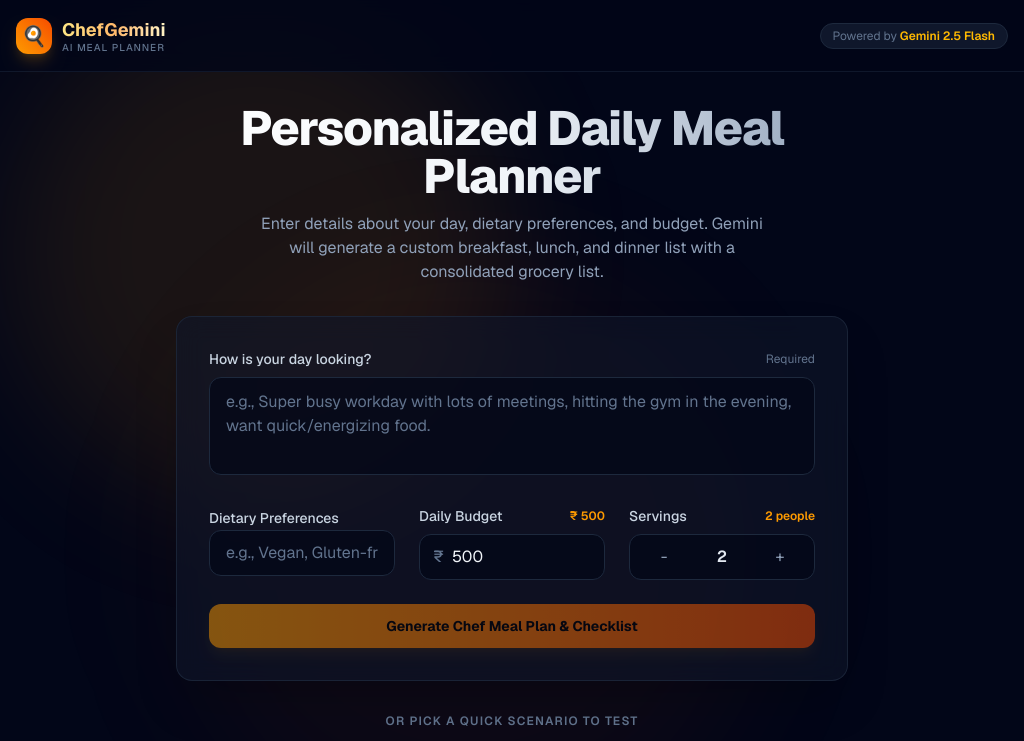
it: Home Page Meal Planner Component › submits form and displays the meal plan output screen
Replace the text in the text box labelled "How is your day looking?" with "Busy day ahead". click: {"x": 512, "y": 426}
box: [209,377,815,475]
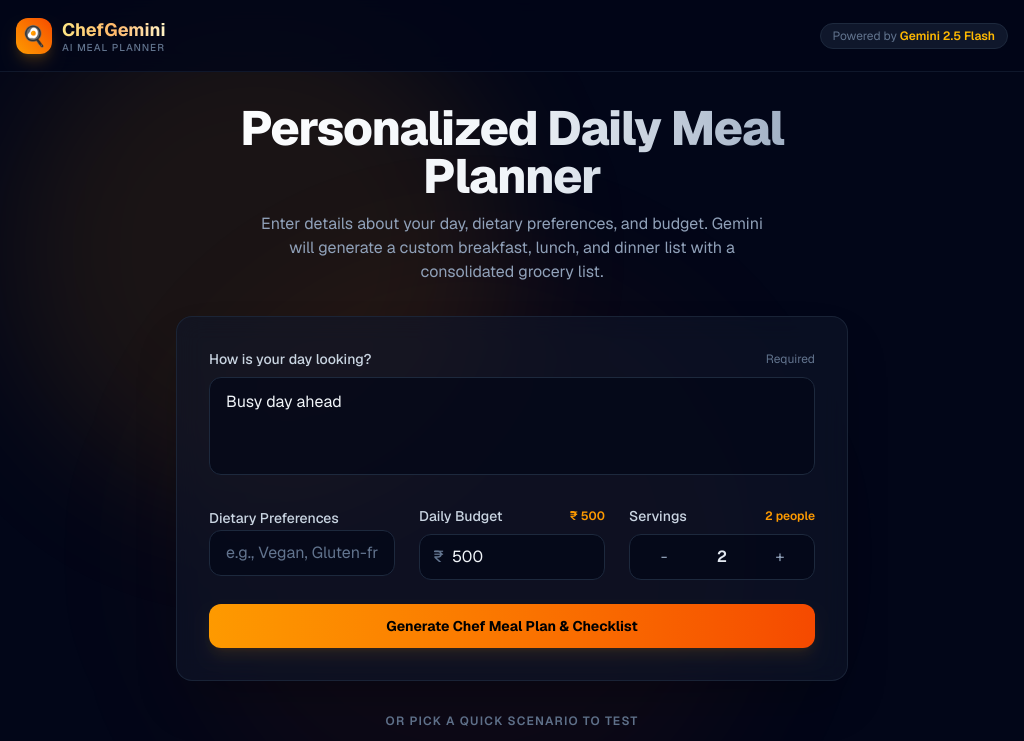
Click the button "Generate Chef Meal Plan & Checklist". click: {"x": 512, "y": 626}
box: [209,604,815,648]
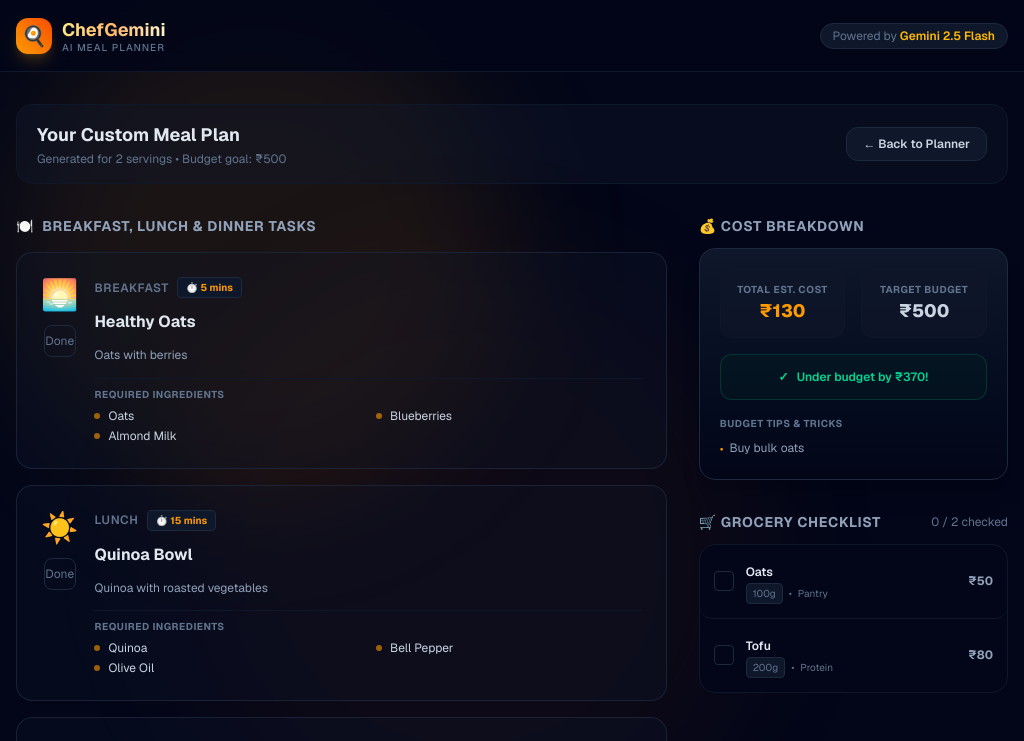
Expected: the heading "Your Custom Meal Plan" is shown, [37,123,240,146]
Expected: the heading "Healthy Oats" is shown, [94,311,196,332]
Expected: the heading "Quinoa Bowl" is shown, [94,544,192,564]
Click on the first checkbox (Oats)
Click the checkbox labelled "Oats 100g • Pantry ₹50". click: {"x": 853, "y": 582}
box: [700,544,1007,618]
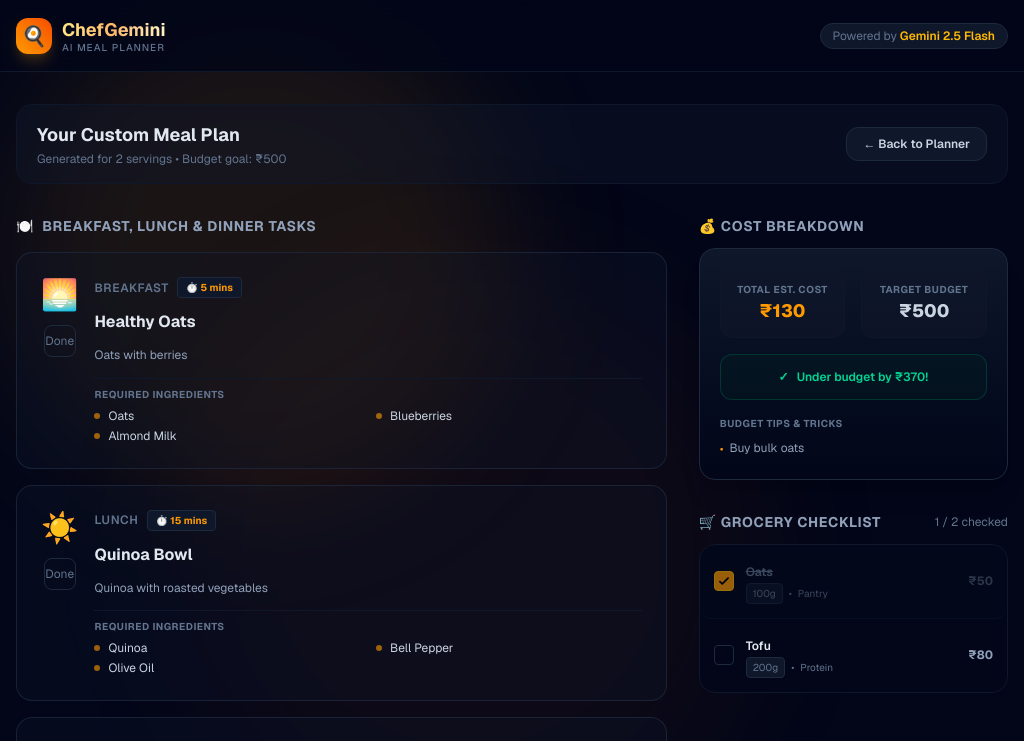
Expected: the checkbox labelled "Oats 100g • Pantry ₹50" is checked, [700,544,1007,618]
Press space key on second checkbox (Tofu)
Press Space in the checkbox labelled "Tofu 200g • Protein ₹80", box [714,638,993,678]
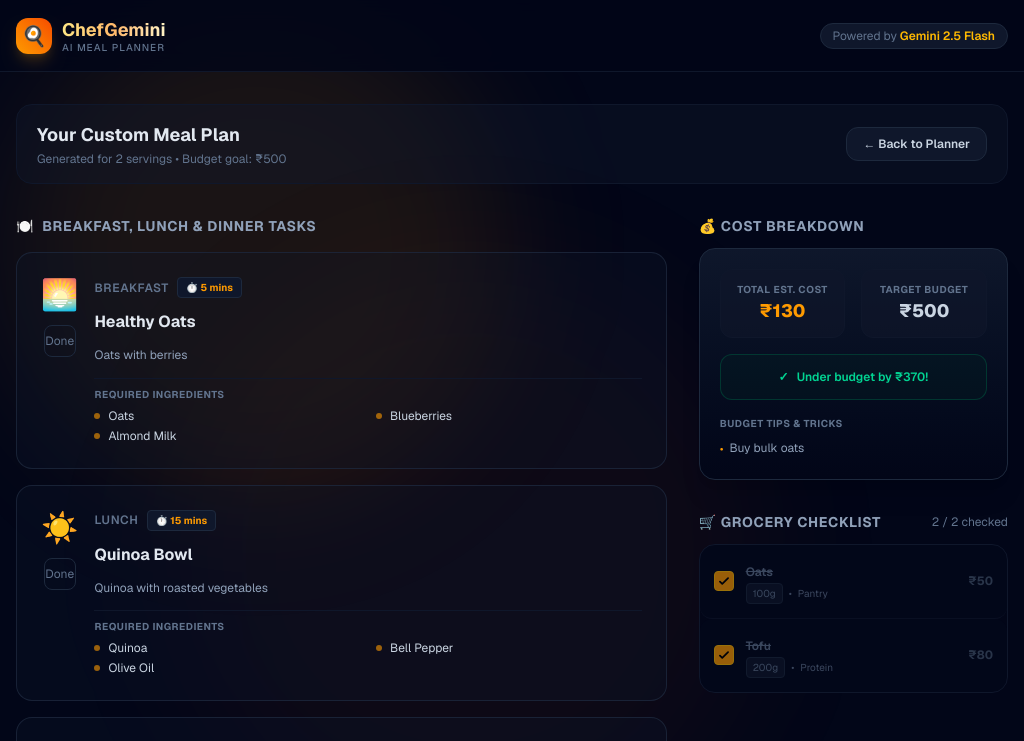
Expected: the checkbox labelled "Tofu 200g • Protein ₹80" is checked, [700,618,1007,692]
Clicking "Back to Planner" returns to original screen
Click the button "← Back to Planner". click: {"x": 917, "y": 144}
box: [846,127,987,161]
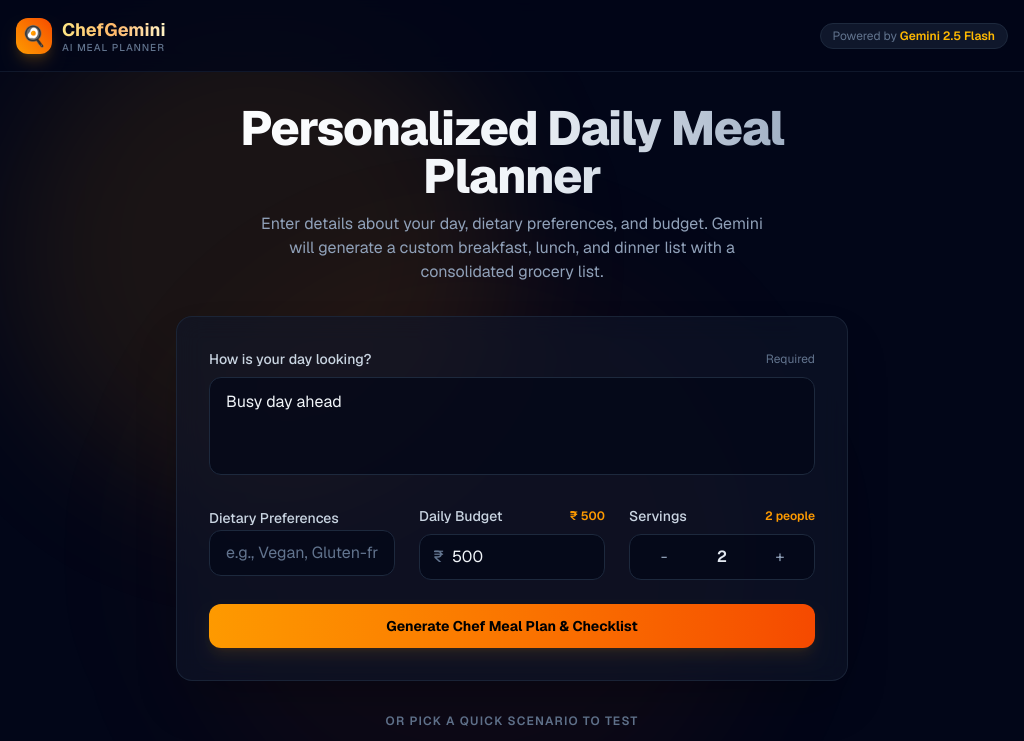
Expected: the heading "Personalized Daily Meal Planner" is shown, [176,104,848,200]
